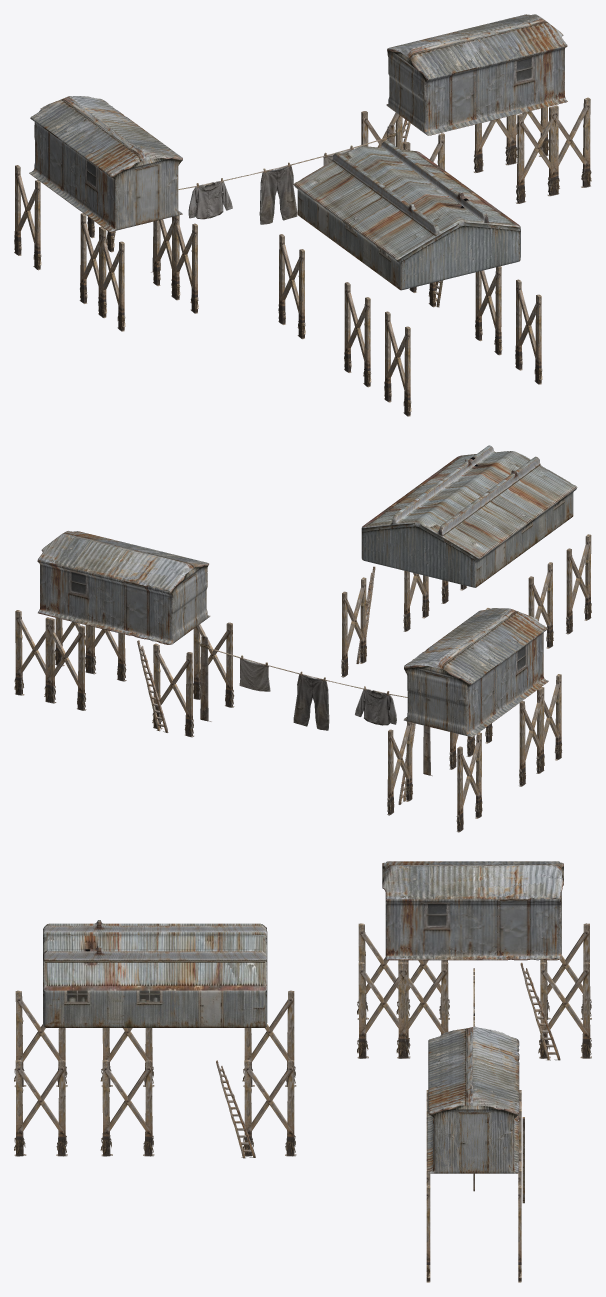
Rendered from sea-camp.glb.
The picture shows the model from 3 angles, top to bottom: view 1: azimuth 30°, elevation 25°; view 2: azimuth 150°, elevation 25°; view 3: azimuth 270°, elevation 25°; orthographic projection. The views are drawn at different scales.
Parts seen in each view (by area): view 1: works-camp:kitchen, works-camp:hut-2, works-camp:hut-1, works-camp:washing-line, works-camp:hut-2:stilt-3-1, works-camp:hut-2:stilt-2-1, works-camp:kitchen:stilt-2-1, works-camp:kitchen:stilt-3-2, works-camp:kitchen:stilt-3-1, works-camp:hut-1:stilt-1-1, works-camp:kitchen:stilt-1-1, works-camp:hut-1:stilt-2-1 (+7 smaller); view 2: works-camp:kitchen, works-camp:hut-2, works-camp:hut-1, works-camp:washing-line, works-camp:hut-2:stilt-2-2, works-camp:hut-2:stilt-1-2, works-camp:hut-2:stilt-1-1, works-camp:kitchen:stilt-3-1, works-camp:kitchen:stilt-1-2, works-camp:hut-2:stilt-3-2, works-camp:hut-1:stilt-1-2, works-camp:hut-1:stilt-1-1 (+7 smaller); view 3: works-camp:kitchen, works-camp:hut-1, works-camp:hut-2, works-camp:kitchen:stilt-2-2, works-camp:kitchen:stilt-3-2, works-camp:kitchen:stilt-1-2, works-camp:hut-1:stilt-1-2, works-camp:hut-1:stilt-3-2, works-camp:hut-1:stilt-2-2, works-camp:kitchen:stilt-1-1, works-camp:kitchen:stilt-3-1, works-camp:kitchen:stilt-2-1 (+4 smaller).
Boxes of the visible parts, x1=… form: works-camp:kitchen: x1=293, y1=140, x2=520, y2=290; works-camp:hut-2: x1=386, y1=14, x2=567, y2=135; works-camp:hut-1: x1=29, y1=96, x2=182, y2=232; works-camp:washing-line: x1=150, y1=125, x2=395, y2=272; works-camp:hut-2:stilt-3-1: x1=547, y1=97, x2=591, y2=196; works-camp:hut-2:stilt-2-1: x1=515, y1=105, x2=559, y2=203; works-camp:kitchen:stilt-2-1: x1=344, y1=282, x2=371, y2=387; works-camp:kitchen:stilt-3-2: x1=515, y1=279, x2=542, y2=384; works-camp:kitchen:stilt-3-1: x1=384, y1=311, x2=411, y2=416; works-camp:hut-1:stilt-1-1: x1=14, y1=165, x2=41, y2=270; works-camp:kitchen:stilt-1-1: x1=278, y1=234, x2=305, y2=339; works-camp:hut-1:stilt-2-1: x1=79, y1=213, x2=106, y2=318; works-camp:kitchen: x1=361, y1=445, x2=577, y2=587; works-camp:hut-2: x1=37, y1=531, x2=210, y2=644; works-camp:hut-1: x1=403, y1=608, x2=548, y2=737; works-camp:washing-line: x1=200, y1=636, x2=432, y2=776; works-camp:hut-2:stilt-2-2: x1=44, y1=617, x2=86, y2=710; works-camp:hut-2:stilt-1-2: x1=152, y1=643, x2=193, y2=737; works-camp:hut-2:stilt-1-1: x1=193, y1=622, x2=234, y2=707; works-camp:kitchen:stilt-3-1: x1=566, y1=534, x2=591, y2=634; works-camp:kitchen:stilt-1-2: x1=341, y1=577, x2=366, y2=677; works-camp:hut-2:stilt-3-2: x1=14, y1=610, x2=56, y2=703; works-camp:hut-1:stilt-1-2: x1=387, y1=721, x2=412, y2=815; works-camp:hut-1:stilt-1-1: x1=456, y1=732, x2=482, y2=832; works-camp:kitchen: x1=43, y1=920, x2=267, y2=1027; works-camp:hut-1: x1=382, y1=861, x2=563, y2=960; works-camp:hut-2: x1=427, y1=1026, x2=519, y2=1173; works-camp:kitchen:stilt-2-2: x1=100, y1=1059, x2=154, y2=1156; works-camp:kitchen:stilt-3-2: x1=14, y1=1059, x2=67, y2=1156; works-camp:kitchen:stilt-1-2: x1=243, y1=1059, x2=296, y2=1156; works-camp:hut-1:stilt-1-2: x1=538, y1=962, x2=591, y2=1058; works-camp:hut-1:stilt-3-2: x1=357, y1=962, x2=410, y2=1058; works-camp:hut-1:stilt-2-2: x1=396, y1=962, x2=448, y2=1058; works-camp:kitchen:stilt-1-1: x1=242, y1=990, x2=296, y2=1087; works-camp:kitchen:stilt-3-1: x1=14, y1=990, x2=67, y2=1087; works-camp:kitchen:stilt-2-1: x1=100, y1=1028, x2=154, y2=1087.
Bounding box in the file's own units: 17.65 × 5.86 × 16.29.
11 materials, 11 textured.
